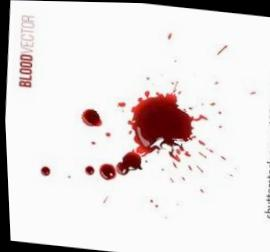Fire: (127, 90, 206, 162), (114, 151, 140, 176), (81, 109, 102, 127), (98, 164, 115, 181), (39, 167, 50, 178), (84, 166, 94, 176)
